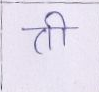i_matra: (50, 11, 72, 46)
